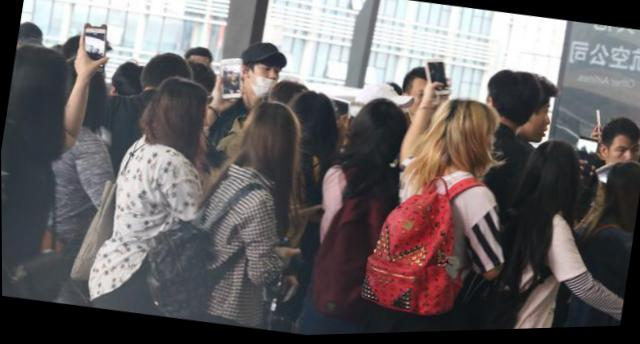NONE: (518, 102, 554, 149), (603, 142, 640, 179)
WRONG: (241, 55, 287, 101)
